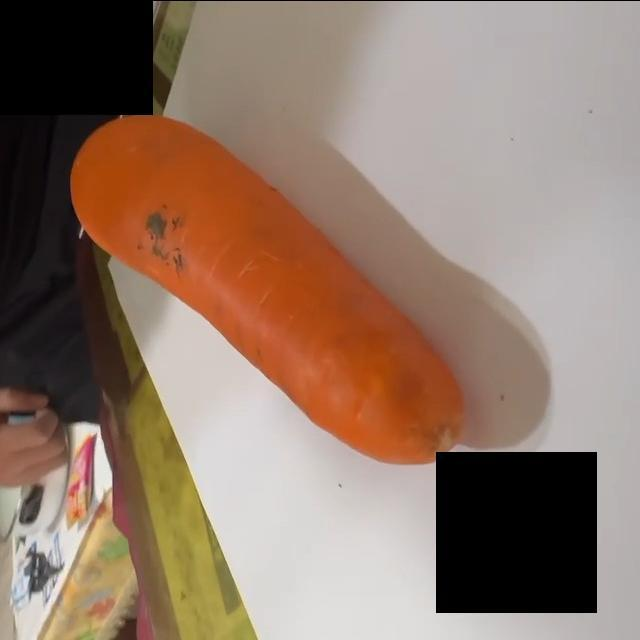carrot: (69, 114, 468, 465)
